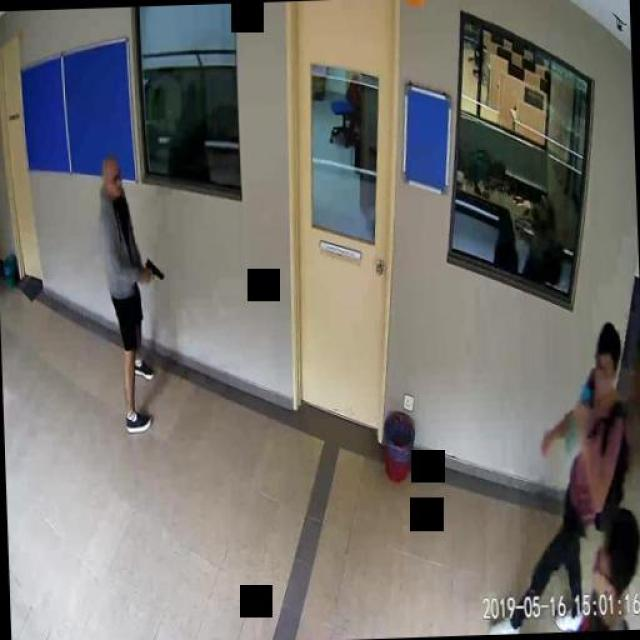gun: (140, 254, 165, 282)
